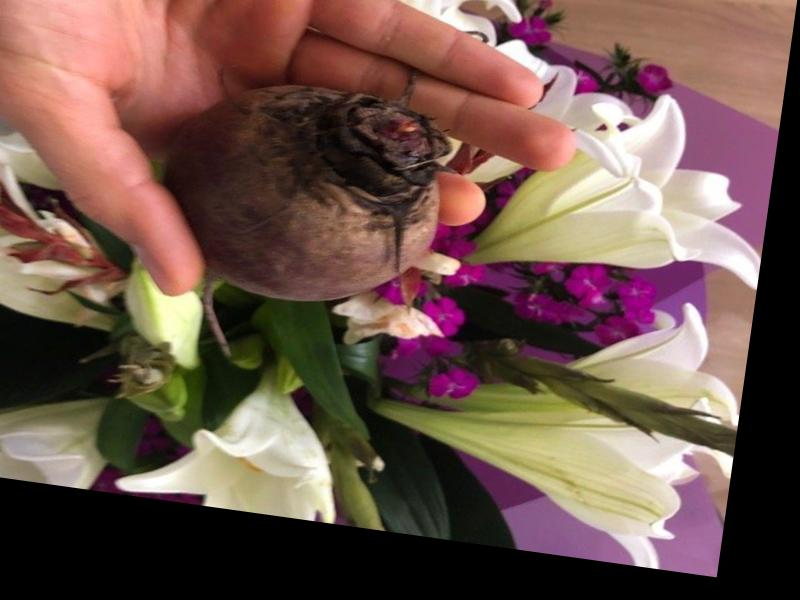Beet: (139, 66, 454, 385)
